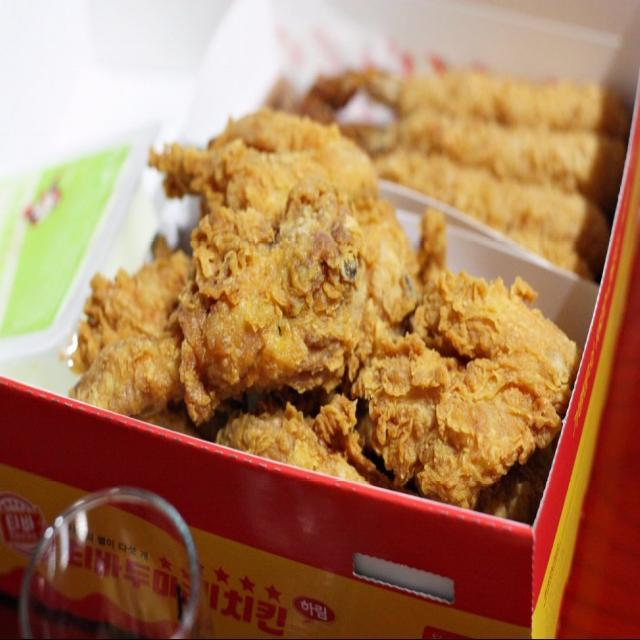Frango: (99, 117, 556, 515)
